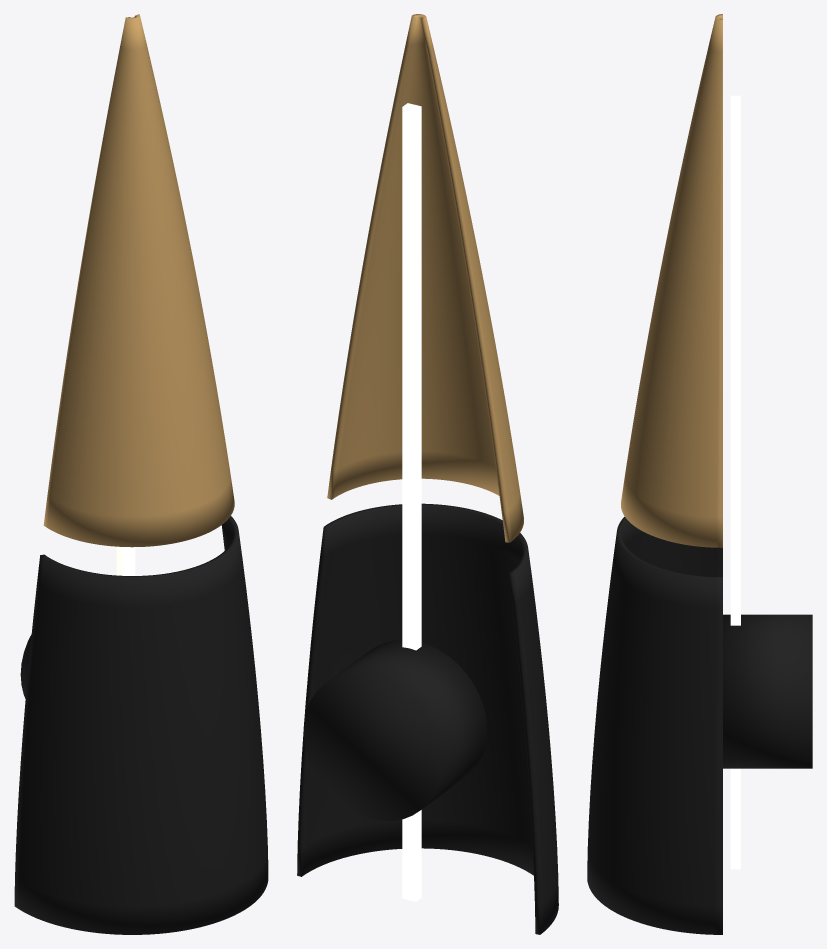
3 renders of one model, left to right at view 1: azimuth 30°, elevation 25°; view 2: azimuth 150°, elevation 25°; view 3: azimuth 270°, elevation 25°, orthographic. The views are drawn at different scales.
Visible parts, largest first — view 1: void-cloud-g2; view 2: void-cloud-g2; view 3: void-cloud-g2.
Boxes of the visible parts, <box> form: void-cloud-g2: <box>14,14,268,934</box>; void-cloud-g2: <box>297,14,558,934</box>; void-cloud-g2: <box>587,14,812,934</box>.
Bounding box in the file's own units: 0.106 × 0.3702 × 0.088.
